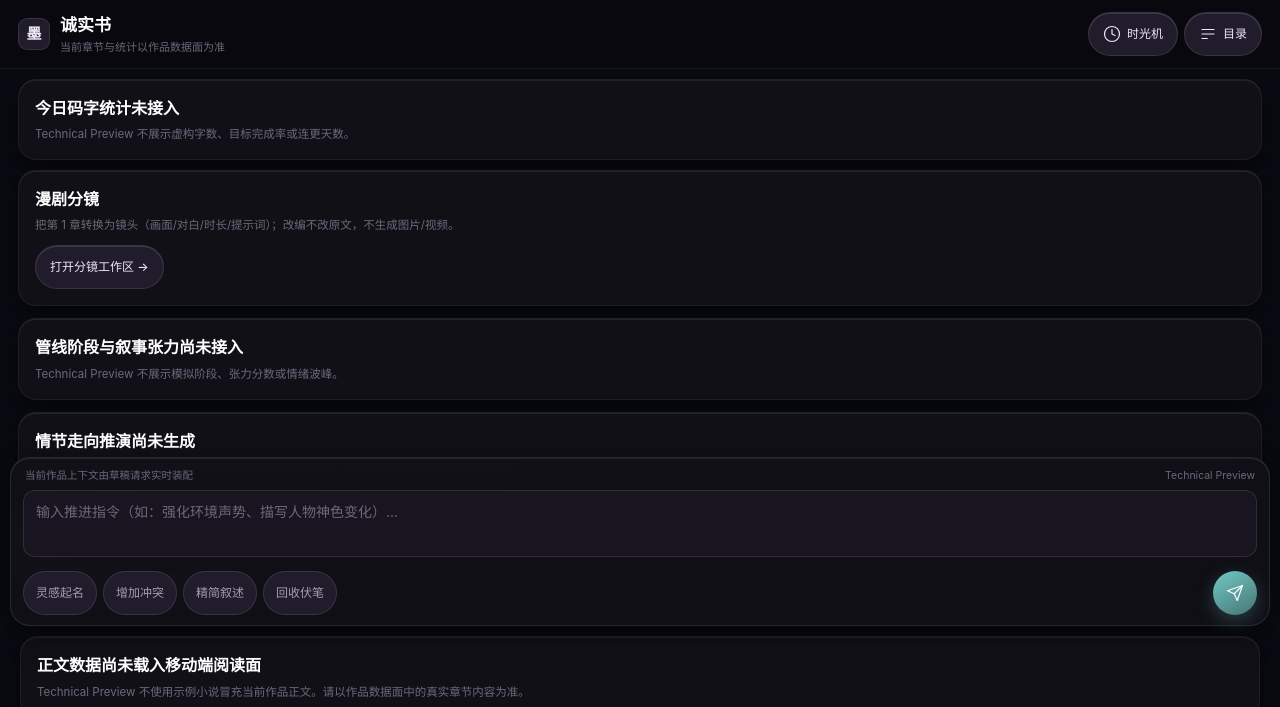
it: WorkbenchHub · 草稿流终帧诚实性 › done(partial=true) 断流半稿：必须说是半稿，不得说已持久化
Type "推进" into the text box with placeholder "输入推进指令（如：强化环境声势、描写人物神色变化）...". click: (640, 524)
box: left=23, top=490, right=1257, bottom=557
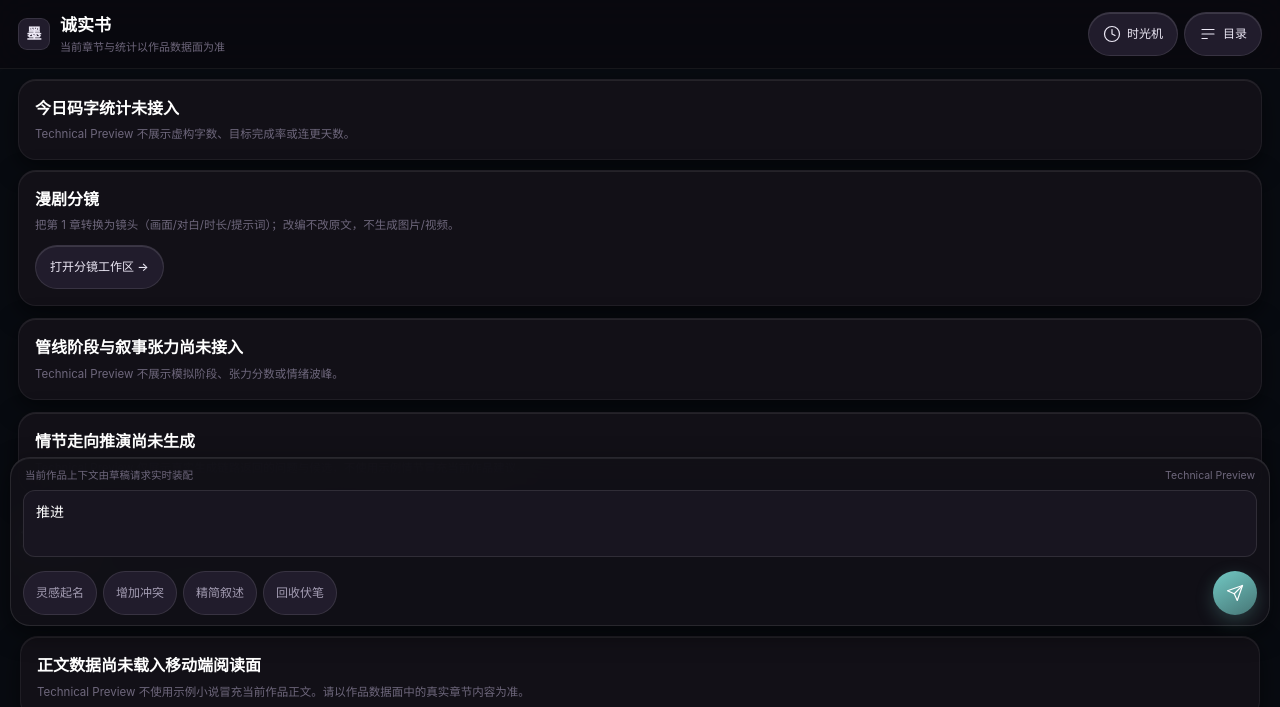
Click the button named "生成草稿". click: (1235, 593)
box: left=1213, top=571, right=1257, bottom=615
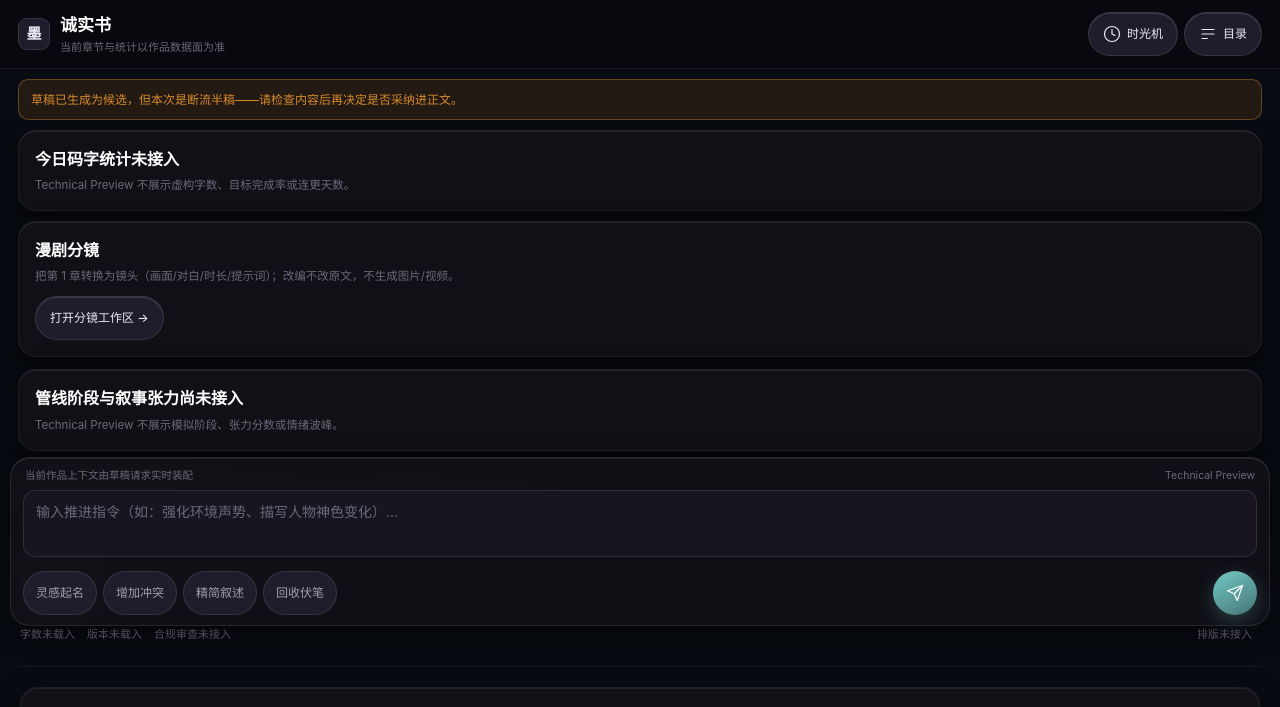
Expected: the message with test id "workbench-notice" shows "半稿", left=18, top=79, right=1262, bottom=120
